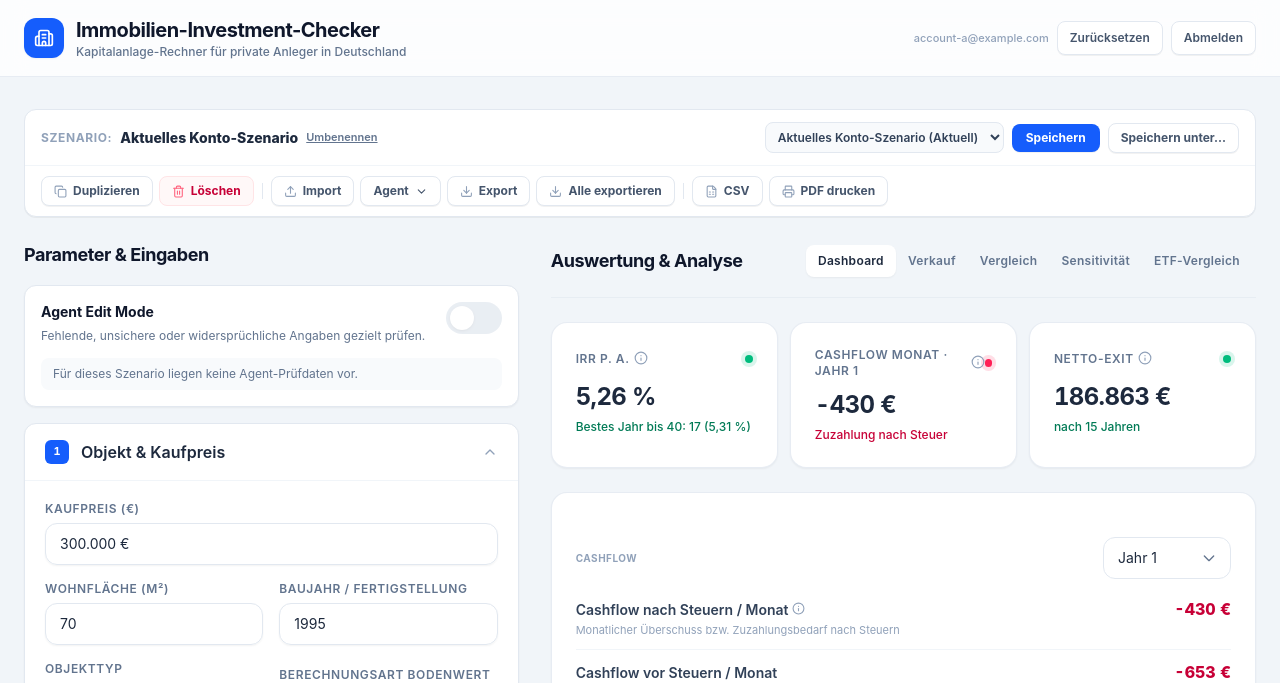
Scenario: Agent-Draft-Ablauf › buendelt alle Agent-Aktionen in einem zugaenglichen Dropdown
Click the button with aria-label "Agent-Menü" at (401, 191), box [360, 176, 441, 206]
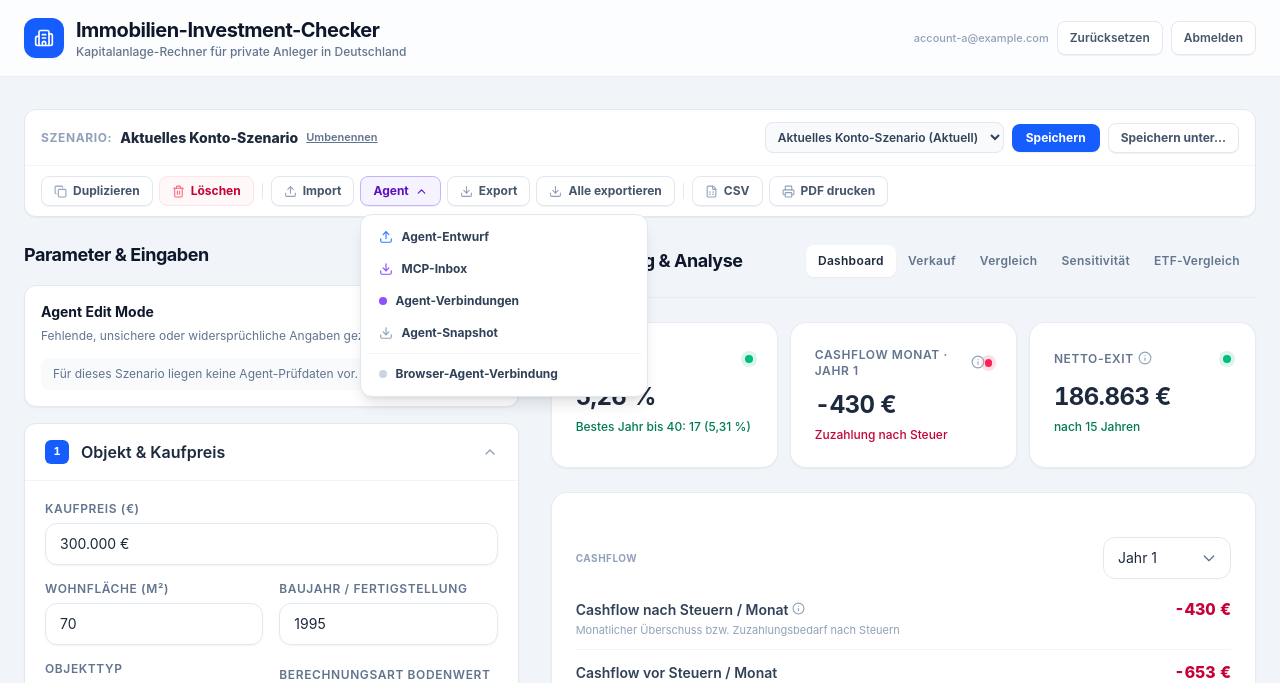
Now the button with aria-label "Agent-Menü" is expanded, box [360, 176, 441, 206]
Now the menu item "Agent-Entwurf" is shown, box [368, 221, 642, 253]
Now the menu item "MCP-Inbox" is shown, box [368, 253, 642, 285]
Press Escape in the menu named "Agent-Aktionen", box [360, 214, 648, 397]
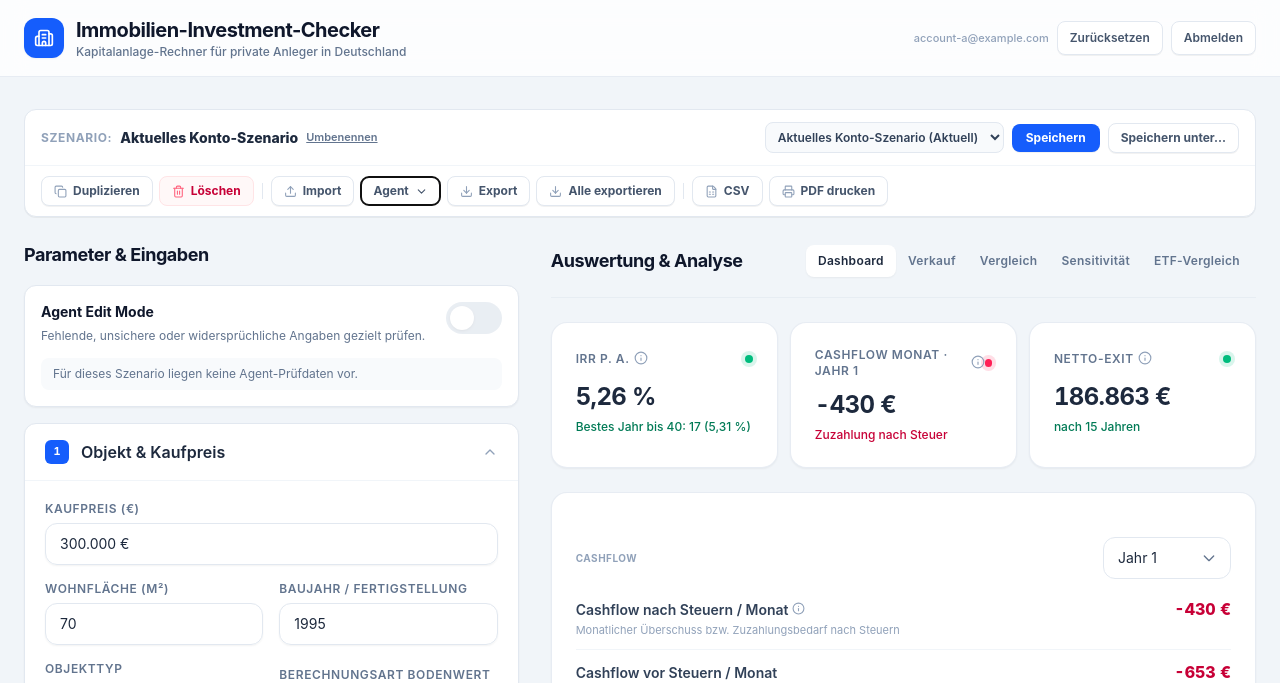
Now the menu "Agent-Aktionen" is gone
